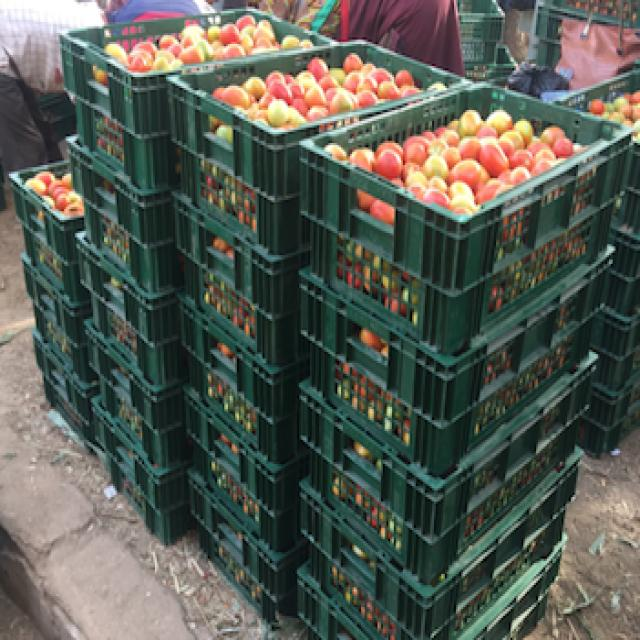basket: (296, 354, 612, 592), (301, 253, 610, 474), (304, 190, 613, 363), (300, 453, 583, 640), (166, 35, 474, 205), (139, 391, 335, 560), (154, 452, 336, 631), (44, 311, 222, 481), (282, 340, 486, 483), (280, 452, 472, 592), (57, 384, 219, 549), (59, 11, 244, 137), (147, 195, 321, 324), (155, 389, 319, 521), (151, 298, 319, 426), (160, 257, 317, 375), (50, 233, 197, 354), (162, 355, 315, 471), (43, 136, 192, 255), (176, 153, 318, 259), (1, 330, 123, 445), (67, 294, 201, 396), (62, 202, 196, 303), (292, 536, 413, 640), (0, 157, 101, 271), (71, 107, 192, 199), (0, 255, 105, 348), (18, 299, 109, 388), (5, 227, 101, 306), (77, 96, 93, 149), (181, 150, 195, 197)
